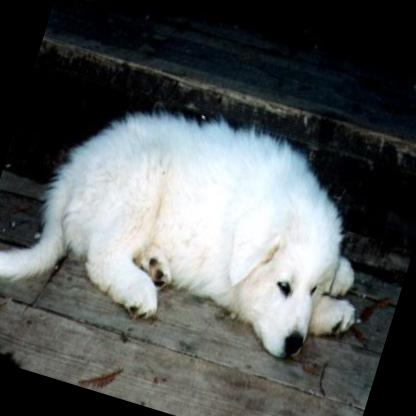Great_Pyrenees: (0, 57, 402, 385)
